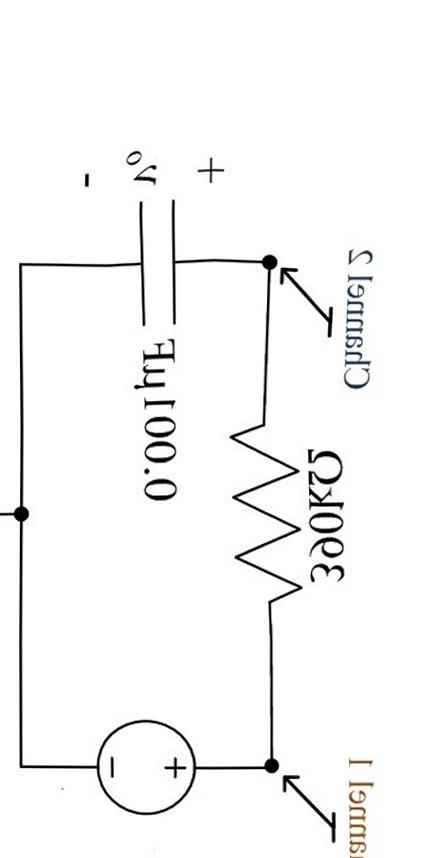Battery: (61, 699, 209, 836)
